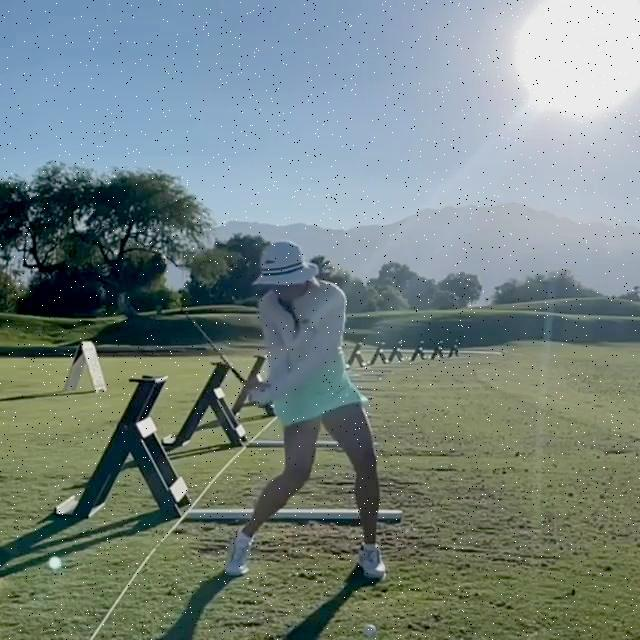golf ball: (363, 625, 376, 636)
golf club-handle: (170, 292, 276, 417)
golf club-head: (170, 292, 185, 305)
